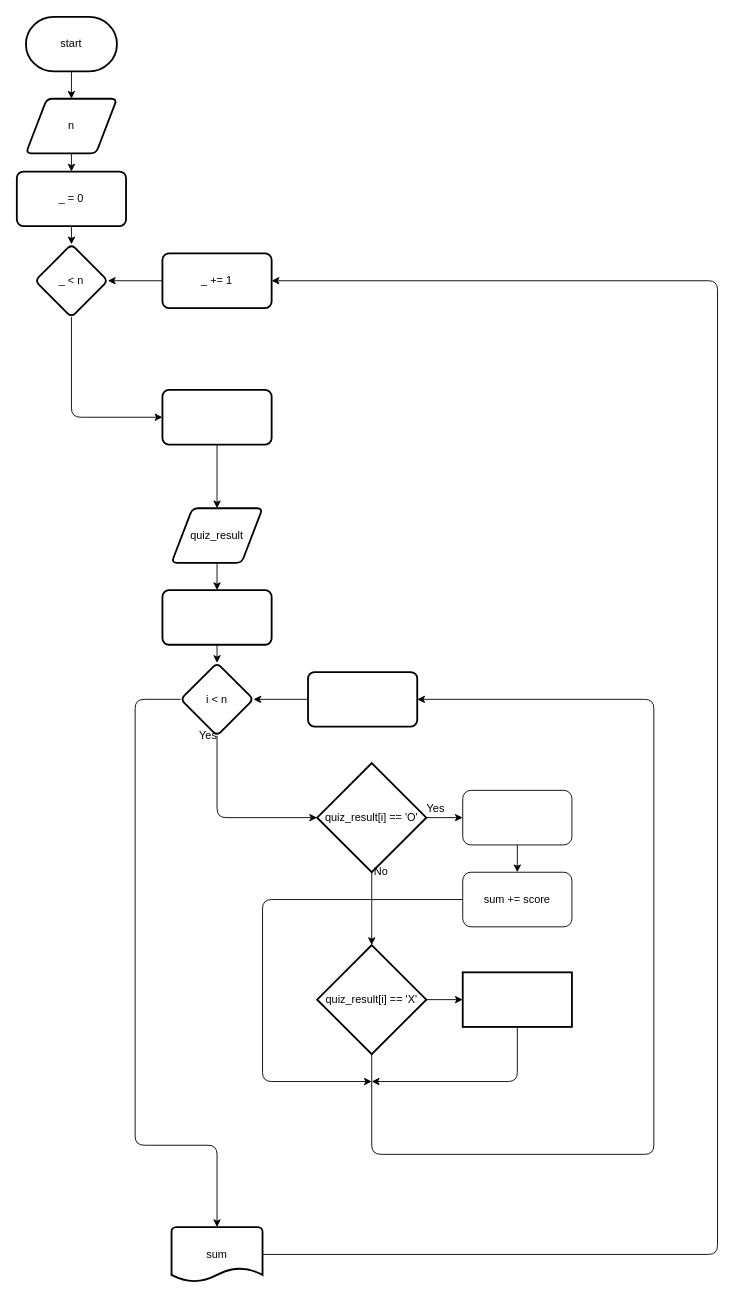
Some shapes in this 741 by 1298 pixel diagram are drawn without their labels. The centre of each missing label's shape, as x and y in pixels:
"i += 1" goes at [362,699].
"i = 0" goes at [216,617].
"score += 1" goes at [517,817].
"score = 0 sum = 0" goes at [216,417].
"sum = 0" goes at [516,999].
